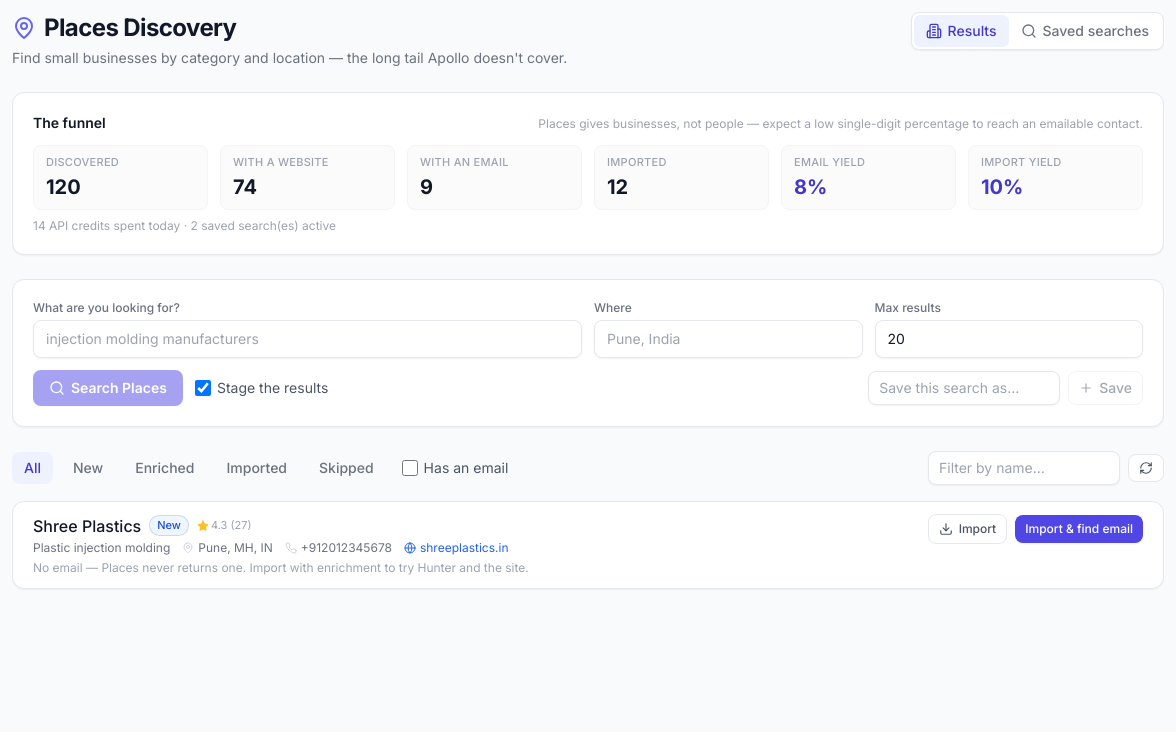
Test case: PlacesDiscovery page › warns that a preview still costs credits
The image size is (1176, 732).
expect the text "Shree Plastics" is shown: met, box [33,514,141,538]
Click the checkbox labelled "Stage the results" at coordinates (203, 388), box [195,380,211,396]
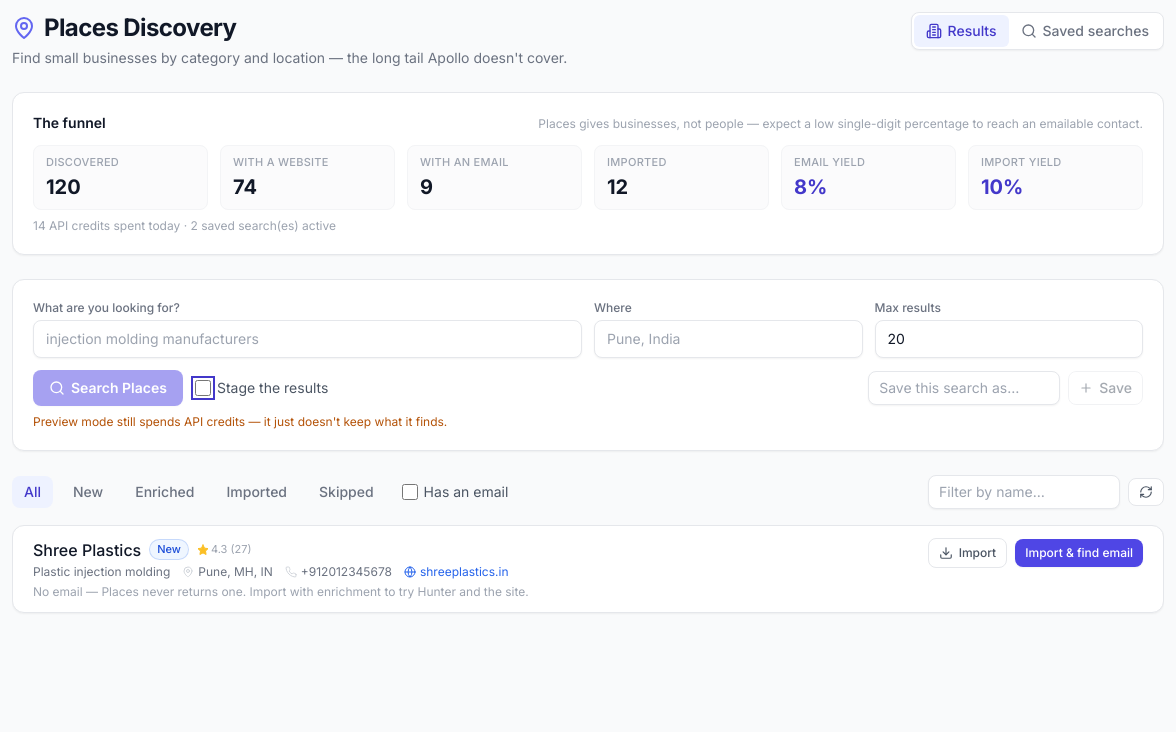
expect the text "still spends API credits" is shown: met, box [33,414,447,428]
